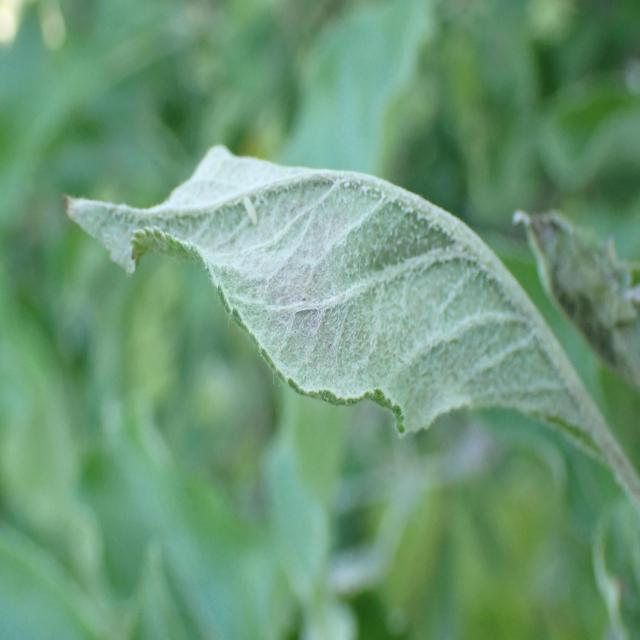Powdery_mildew: (46, 140, 597, 489), (510, 180, 633, 400)
